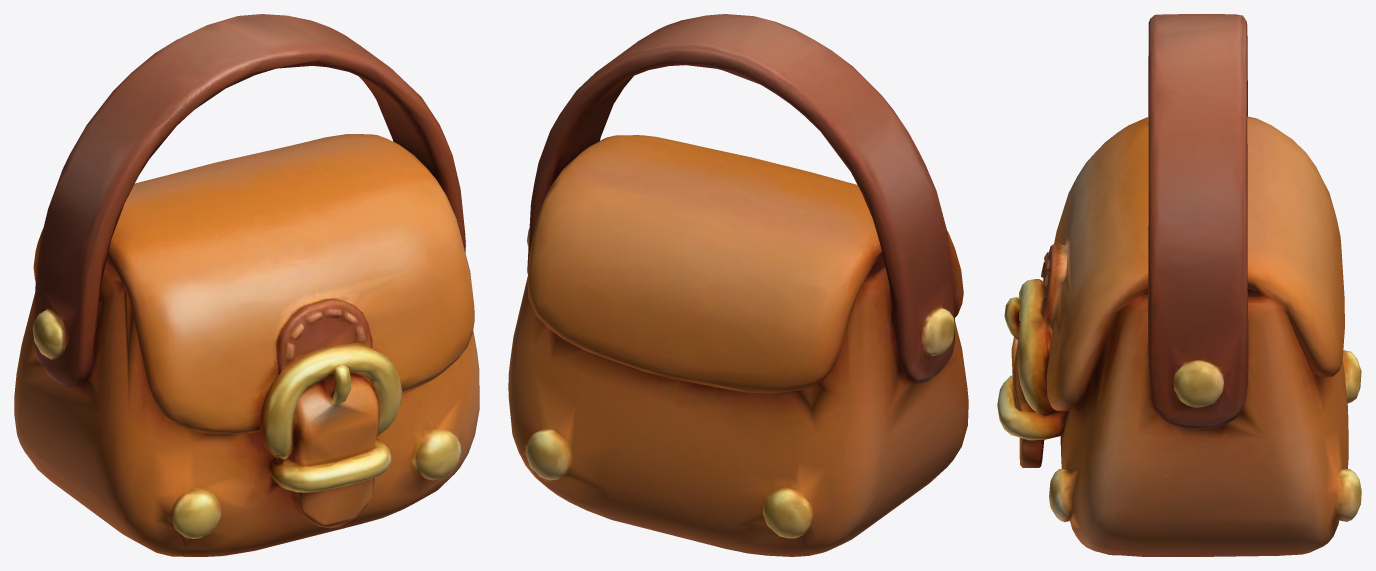
File: bp-adv-bag.glb
The picture shows the model from 3 angles, left to right: view 1: azimuth 30°, elevation 25°; view 2: azimuth 150°, elevation 25°; view 3: azimuth 270°, elevation 25°; orthographic projection.
Visible parts, largest first — view 1: tripo_node_aedfb915-0391-418e-a312-966341321216; view 2: tripo_node_aedfb915-0391-418e-a312-966341321216; view 3: tripo_node_aedfb915-0391-418e-a312-966341321216.
Boxes of the visible parts, x1,y1,x2,y2 form: tripo_node_aedfb915-0391-418e-a312-966341321216: [14, 14, 479, 556]; tripo_node_aedfb915-0391-418e-a312-966341321216: [508, 14, 968, 556]; tripo_node_aedfb915-0391-418e-a312-966341321216: [997, 14, 1361, 556].
Bounding box in the file's own units: 0.9378 × 0.9994 × 0.6984.
1 material, 1 textured.
